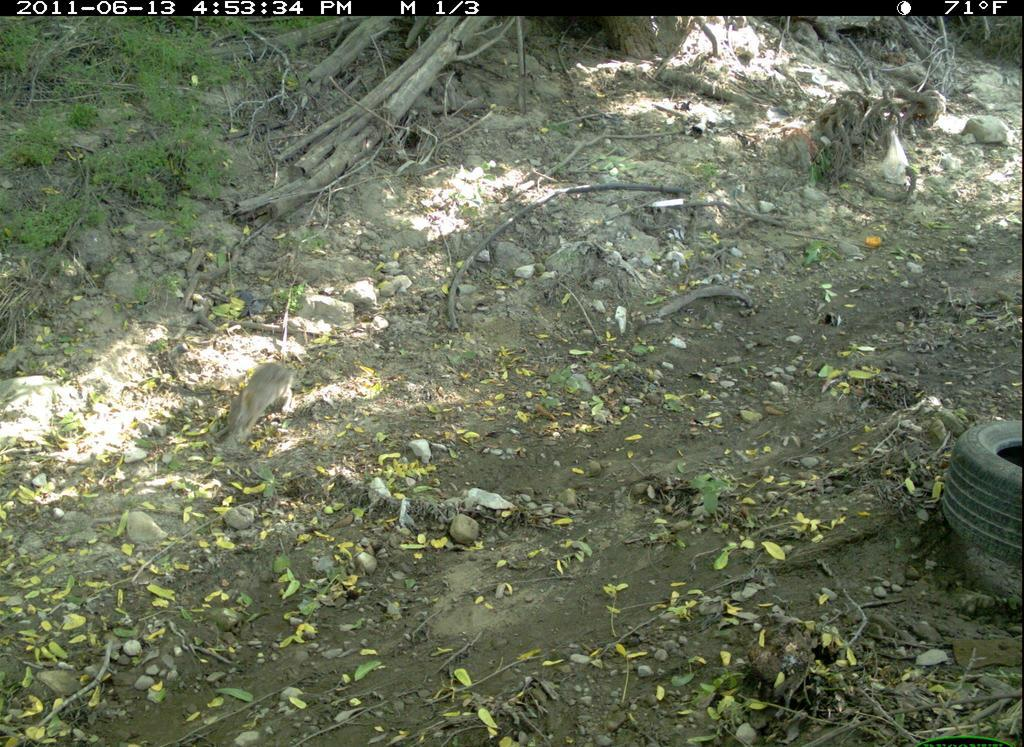rabbit: (208, 353, 301, 465)
